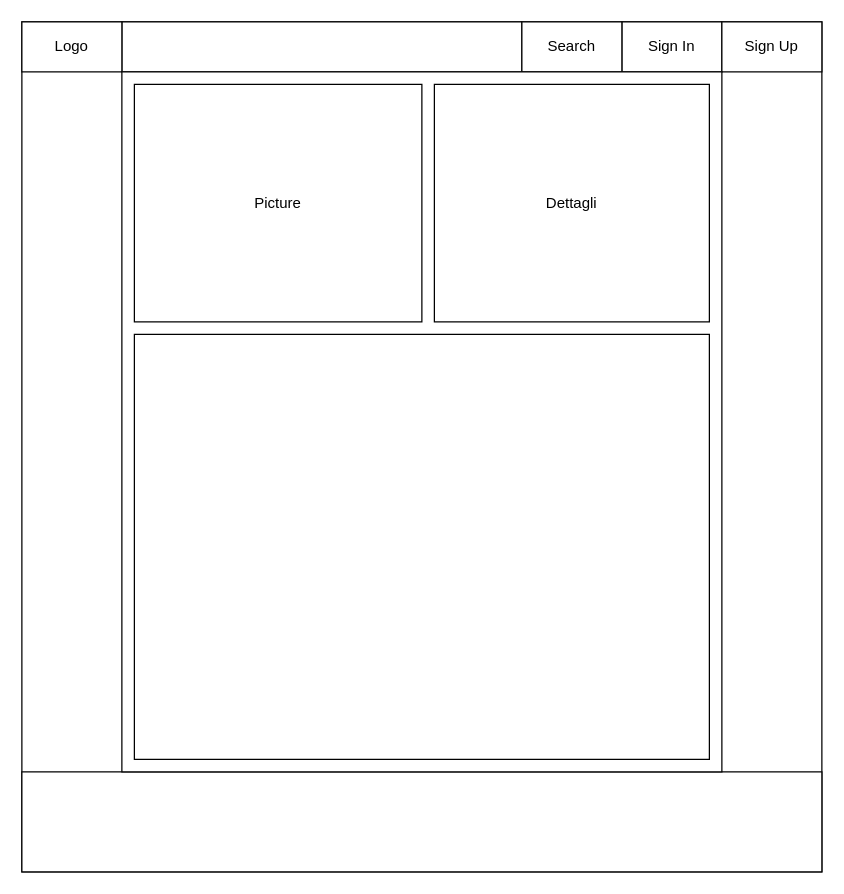
This 844x894 diagram has some shape labels left out. The shapes that lost their labels are listed below. From the top down, each one's centre as x and y in pixels, then its label:
At (321,46): "Menu".
At (421,546): "Trama".
At (421,821): "Footer".
